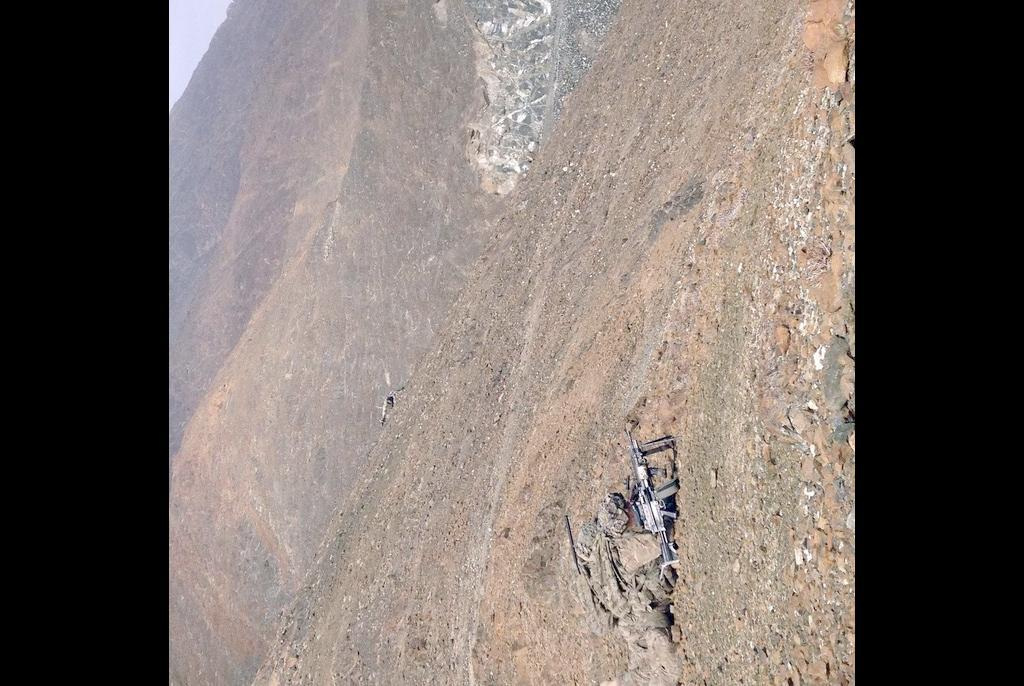gun: (616, 436, 685, 601)
